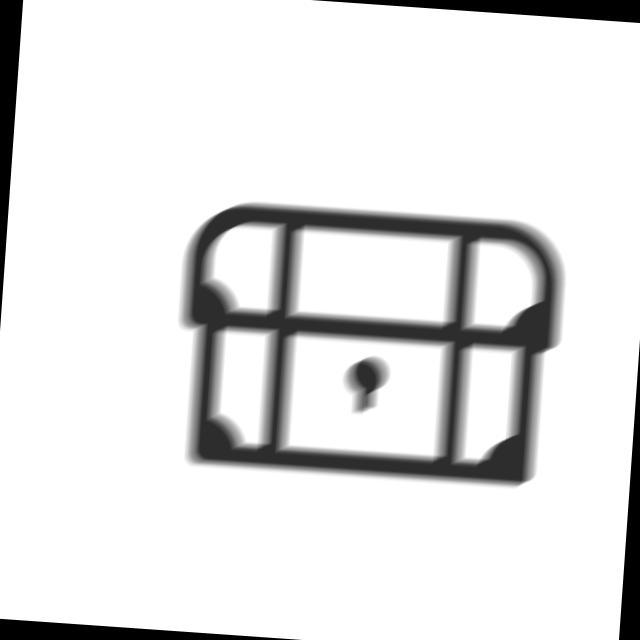treasure_box: (162, 188, 578, 496)
